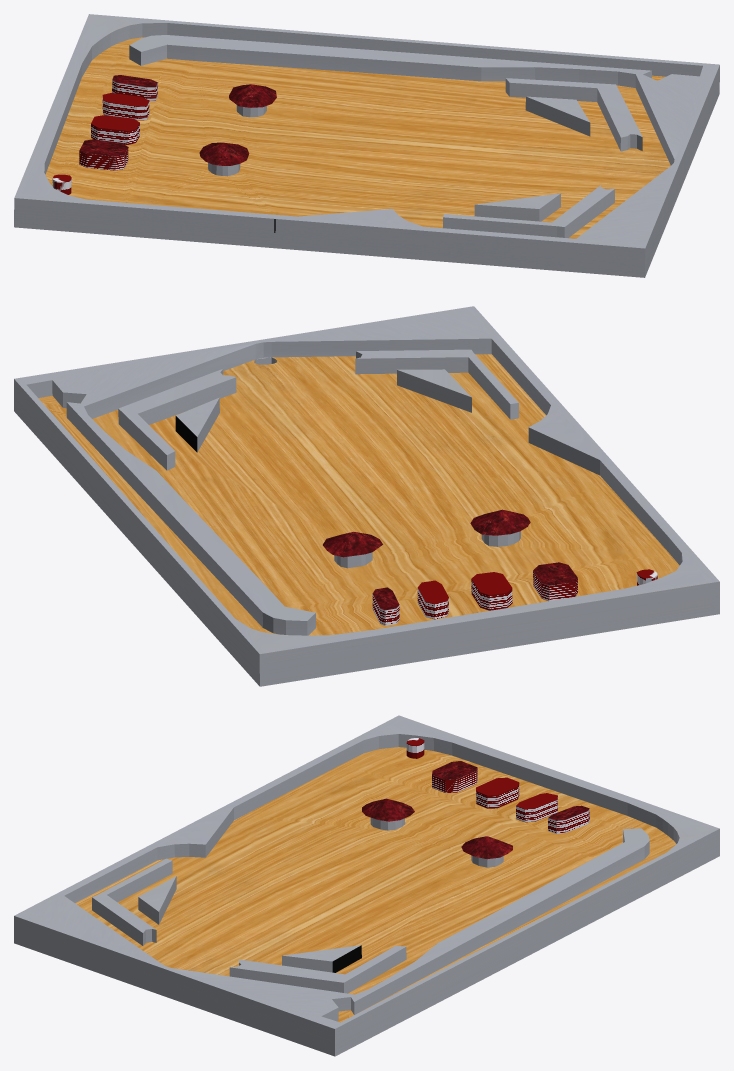
The model's file is PA10PinballMachine.obj.
3 renders of one model, top to bottom at view 1: azimuth 30°, elevation 25°; view 2: azimuth 150°, elevation 25°; view 3: azimuth 270°, elevation 25°, orthographic. The views are drawn at different scales.
Parts seen in each view (by area): view 1: Cube; view 2: Cube; view 3: Cube.
Part boxes in pixels (x1,y1,x2,y2): Cube: (14, 14, 719, 277); Cube: (14, 306, 719, 686); Cube: (14, 715, 719, 1056).
Bounding box in the file's own units: 87.74 × 5.85 × 84.82.
6 materials, 6 textured.
